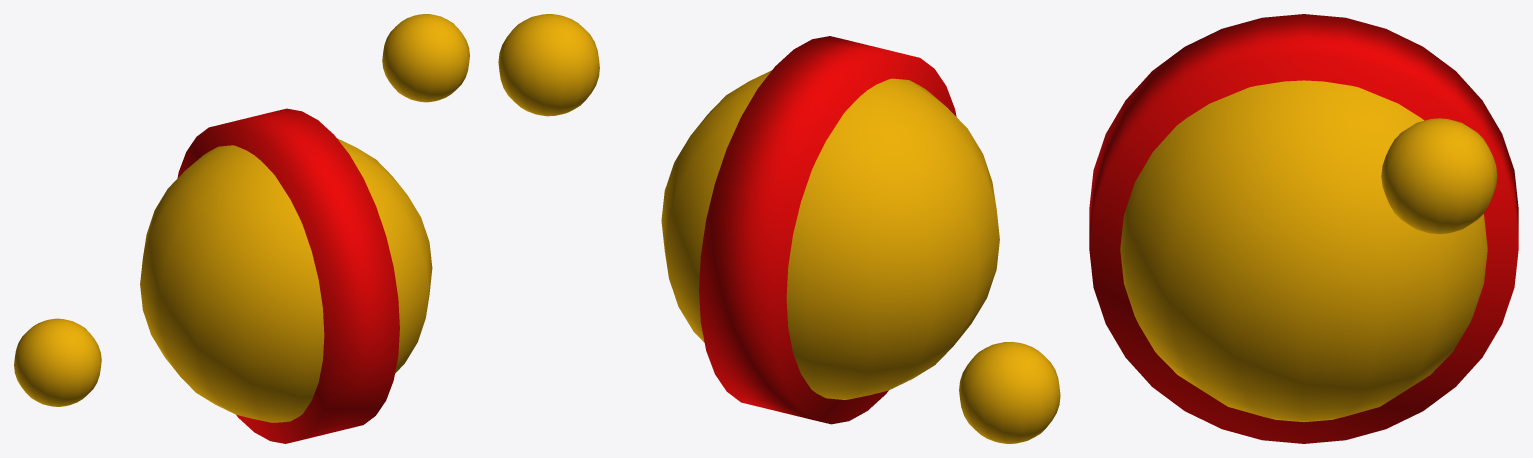
Rendered from actor_attack_leader.fbx.
3 renders of one model, left to right at view 1: azimuth 30°, elevation 25°; view 2: azimuth 150°, elevation 25°; view 3: azimuth 270°, elevation 25°, orthographic. The views are drawn at different scales.
Visible parts, largest first — view 1: Sphere, Cylinder, Sphere.001, Sphere.002; view 2: Sphere, Cylinder, Sphere.001, Sphere.002; view 3: Sphere, Cylinder, Sphere.001.
Part boxes in pixels (left/top/right/bottom): Sphere: left=140, top=138, right=432, bottom=422; Cylinder: left=177, top=108, right=399, bottom=443; Sphere.001: left=382, top=14, right=469, bottom=102; Sphere.002: left=14, top=318, right=101, bottom=406; Sphere: left=661, top=70, right=999, bottom=399; Cylinder: left=699, top=36, right=956, bottom=424; Sphere.001: left=498, top=14, right=599, bottom=116; Sphere.002: left=959, top=342, right=1060, bottom=443; Sphere: left=1120, top=80, right=1487, bottom=422; Cylinder: left=1089, top=14, right=1518, bottom=443; Sphere.001: left=1381, top=118, right=1497, bottom=234.
Size of the model in its own units: 3.6 by 2.41 by 2.22.
